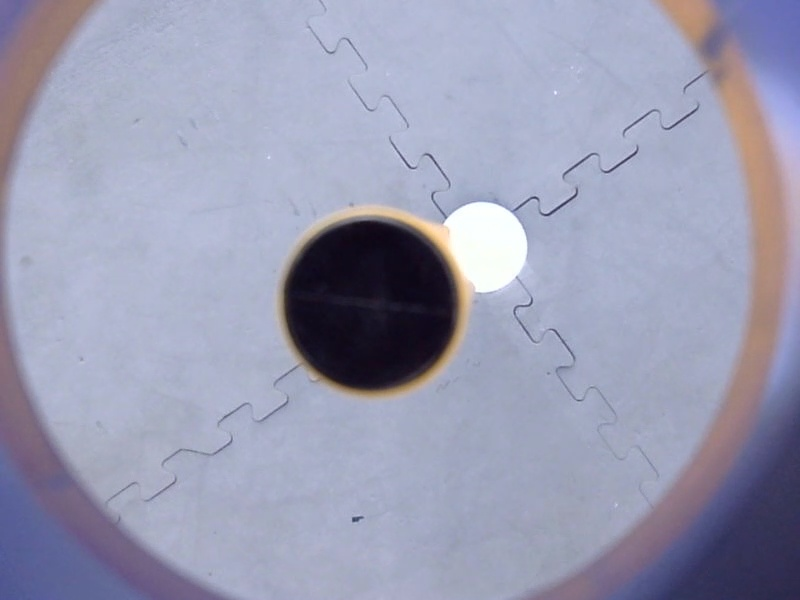tip: (266, 198, 478, 409)
